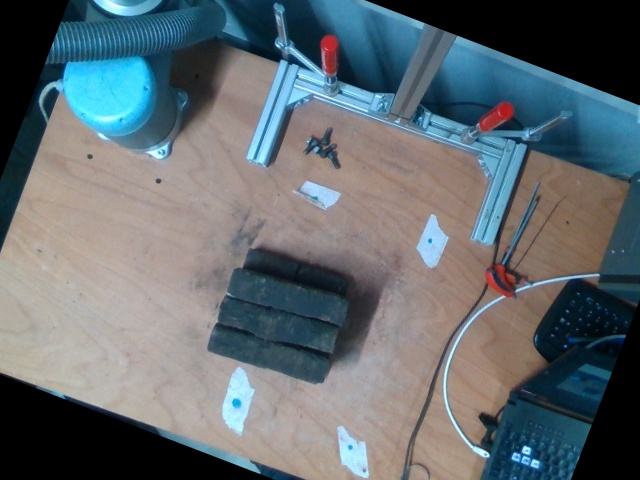brick-side: (229, 269, 347, 324), (207, 329, 328, 382), (221, 299, 339, 353)
